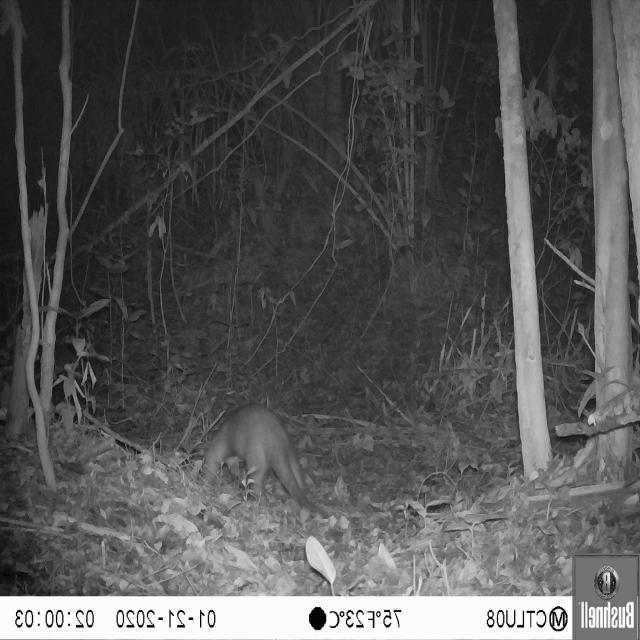Southern Tamandua: (194, 393, 335, 523)
